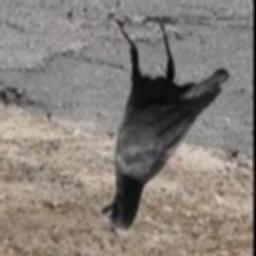Crow: (101, 14, 229, 231)
